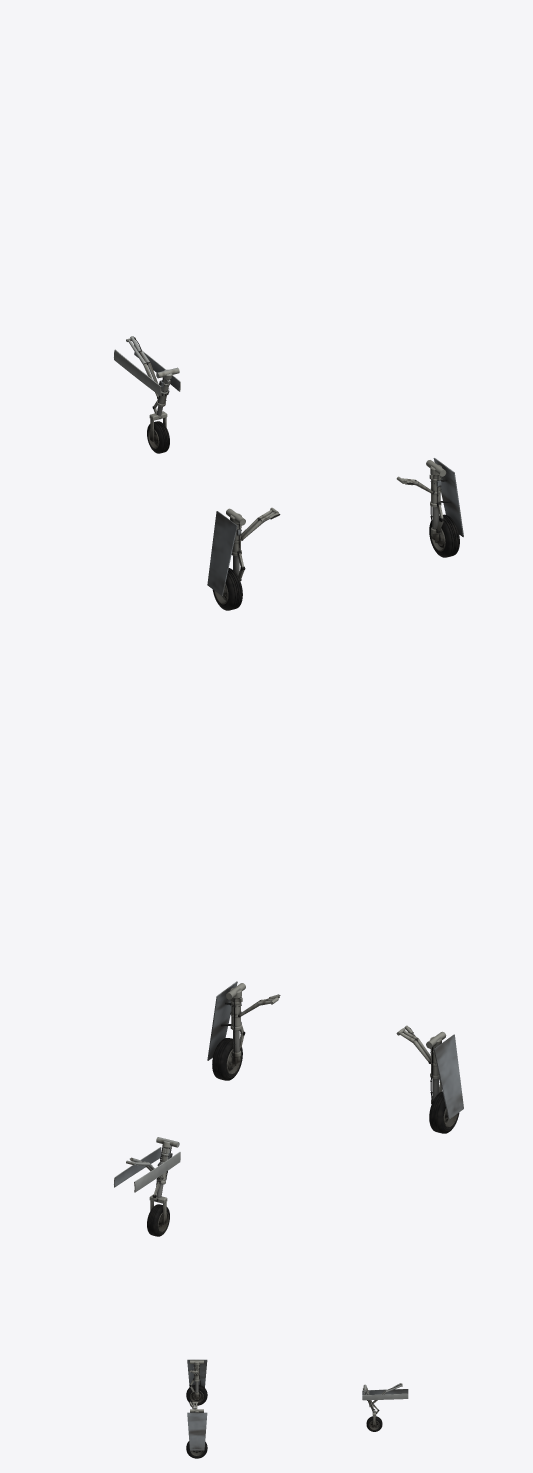
Rendered from f5_gear.glb.
The picture shows the model from 3 angles, top to bottom: view 1: azimuth 30°, elevation 25°; view 2: azimuth 150°, elevation 25°; view 3: azimuth 270°, elevation 25°; orthographic projection. The views are drawn at different scales.
Visible parts, largest first — view 1: gear_m_l, gear_m_r, gear_n, gear_w_r, gear_w_l; view 2: gear_m_l, gear_m_r, gear_n, gear_w_r, gear_w_l; view 3: gear_m_r, gear_m_l, gear_n, gear_w_l, gear_door_n_r.
Boxes of the visible parts, x1,y1,x2,y2 form: gear_m_l: [207, 508, 245, 595]; gear_m_r: [426, 458, 463, 541]; gear_n: [147, 367, 179, 453]; gear_w_r: [429, 514, 459, 557]; gear_w_l: [212, 568, 242, 610]; gear_m_l: [426, 1031, 463, 1119]; gear_m_r: [207, 981, 245, 1064]; gear_n: [147, 1137, 179, 1236]; gear_w_r: [212, 1038, 242, 1080]; gear_w_l: [429, 1091, 459, 1133]; gear_m_r: [187, 1409, 207, 1450]; gear_m_l: [187, 1359, 207, 1398]; gear_n: [363, 1384, 382, 1431]; gear_w_l: [186, 1385, 207, 1405]; gear_door_n_r: [362, 1393, 408, 1400].
Size of the model in its own units: 4.02 by 5.26 by 14.5.
Materials: 2 (1 with a texture image).
